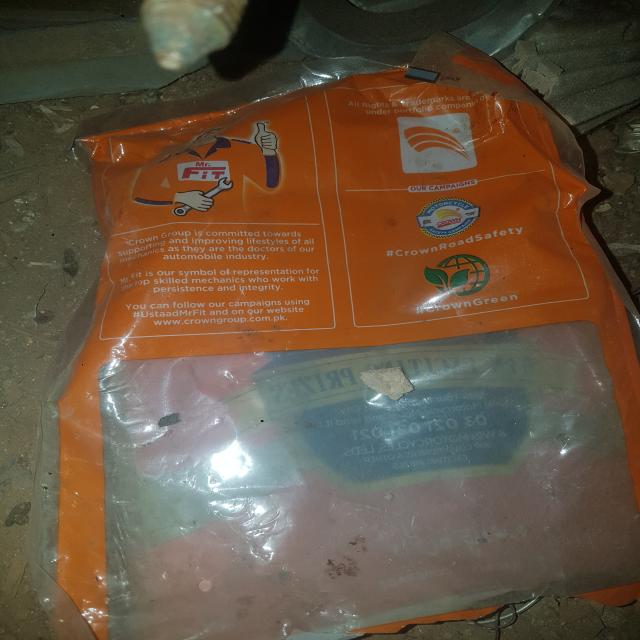electronic: (27, 32, 638, 638)
